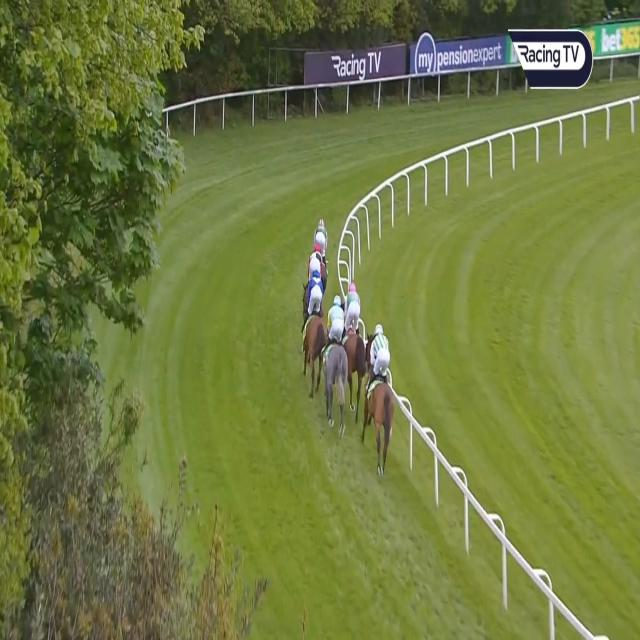horses-racing: (367, 323, 397, 457), (300, 270, 324, 370), (343, 282, 365, 388), (326, 294, 344, 420), (314, 217, 335, 268), (306, 251, 322, 281)
